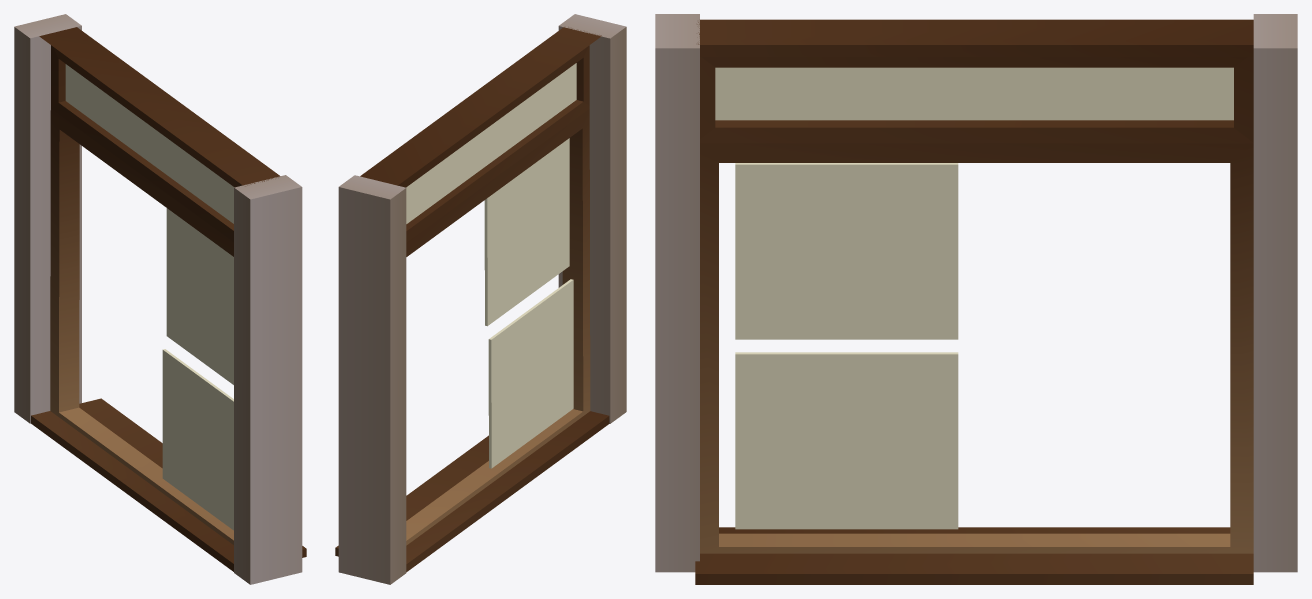
Rendered from B01_cadre_porte_bar.fbx.
The picture shows the model from 3 angles, left to right: view 1: azimuth 30°, elevation 25°; view 2: azimuth 150°, elevation 25°; view 3: azimuth 270°, elevation 25°; orthographic projection. The views are drawn at different scales.
Visible parts, largest first — view 1: B01_cadre_porte_bar; view 2: B01_cadre_porte_bar; view 3: B01_cadre_porte_bar.
Part boxes in pixels (x1=…): B01_cadre_porte_bar: x1=14, y1=14, x2=306, y2=584; B01_cadre_porte_bar: x1=335, y1=14, x2=626, y2=584; B01_cadre_porte_bar: x1=655, y1=14, x2=1297, y2=584.
Size of the model in its own units: 86.84 by 450 by 500.
